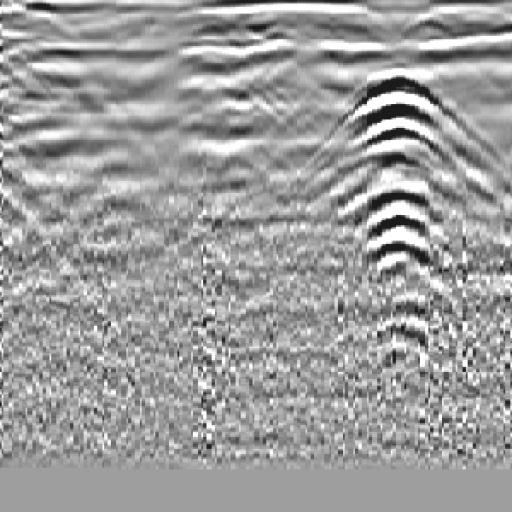metalic: (289, 58, 512, 332)
